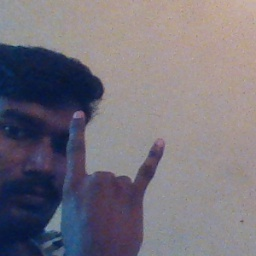V: (57, 106, 170, 256)
